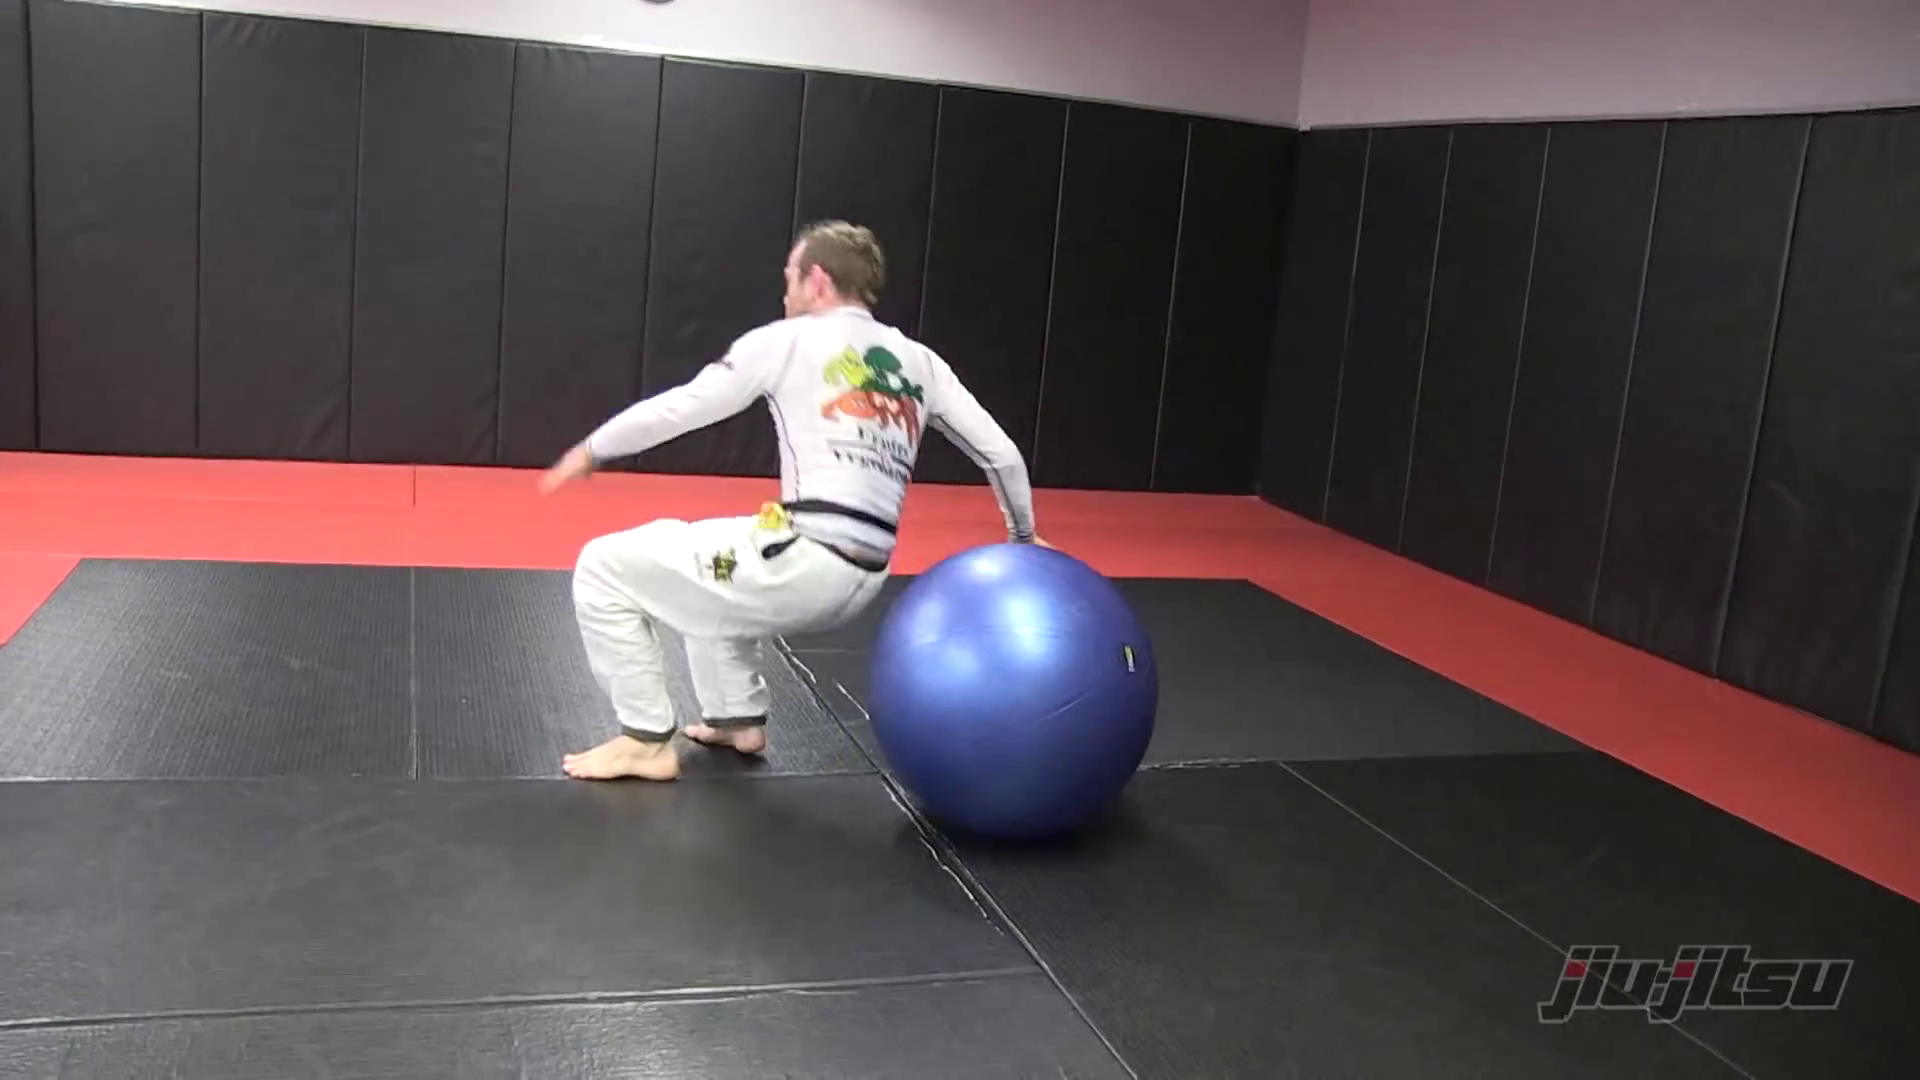yogaball: (857, 538, 1176, 847)
